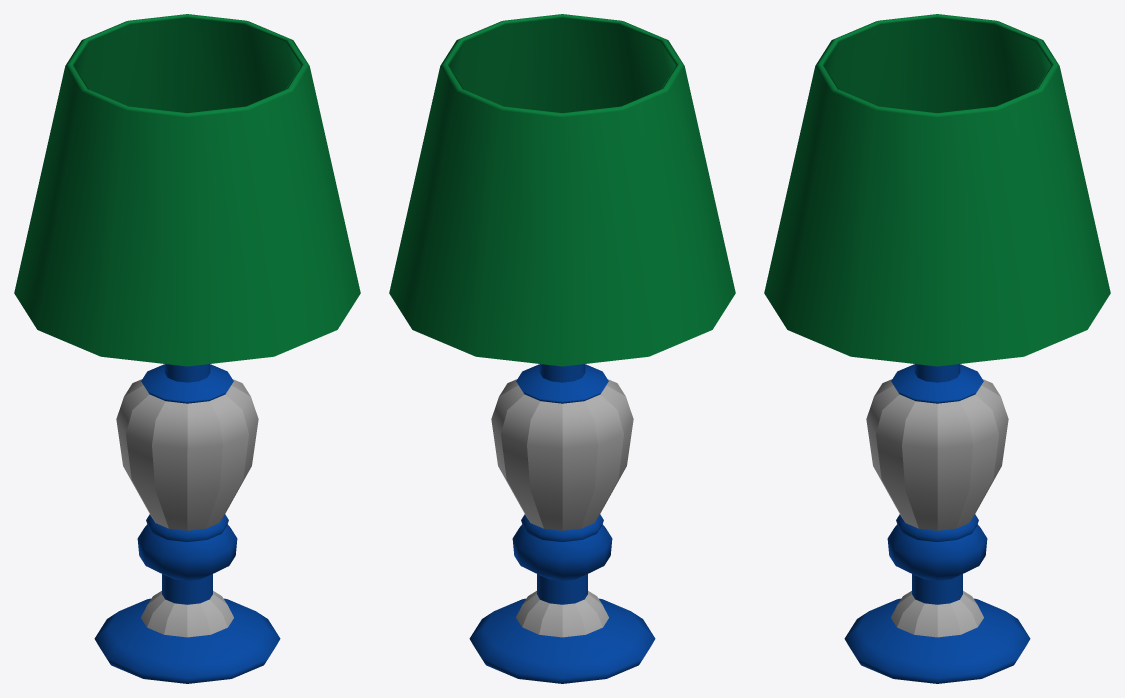
File: lamp1.fbx
3 views of the same model, side by side, from view 1: azimuth 30°, elevation 25°; view 2: azimuth 150°, elevation 25°; view 3: azimuth 270°, elevation 25° (orthographic).
Visible parts, largest first — view 1: lamp1; view 2: lamp1; view 3: lamp1.
Part boxes in pixels (x1,y1,x2,y2): lamp1: (14,14,360,683); lamp1: (389,14,735,683); lamp1: (764,14,1110,683).
Size of the model in its own units: 41.63 by 77.25 by 41.63.
